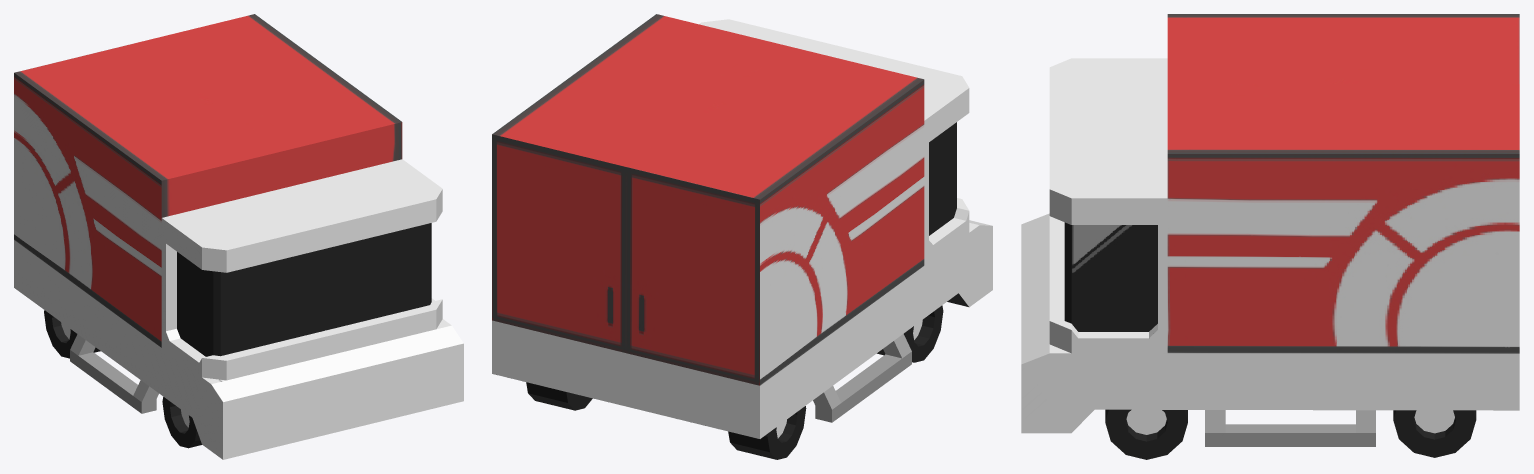
The model's file is Truck.fbx.
3 views of the same model, side by side, from view 1: azimuth 30°, elevation 25°; view 2: azimuth 150°, elevation 25°; view 3: azimuth 270°, elevation 25° (orthographic). The views are drawn at different scales.
Visible parts, largest first — view 1: Cube; view 2: Cube; view 3: Cube.
Part boxes in pixels (box(x1,y1,x2,y2)): Cube: box(14, 14, 463, 459); Cube: box(492, 14, 992, 459); Cube: box(1021, 14, 1519, 459).
Size of the model in its own units: 2.07 by 2.07 by 3.01.
